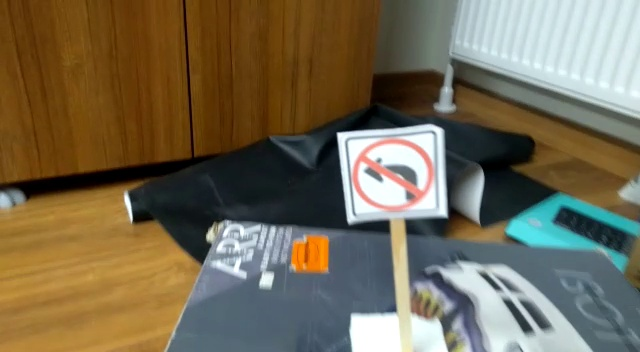sola_donulmez: (355, 134, 436, 217)
